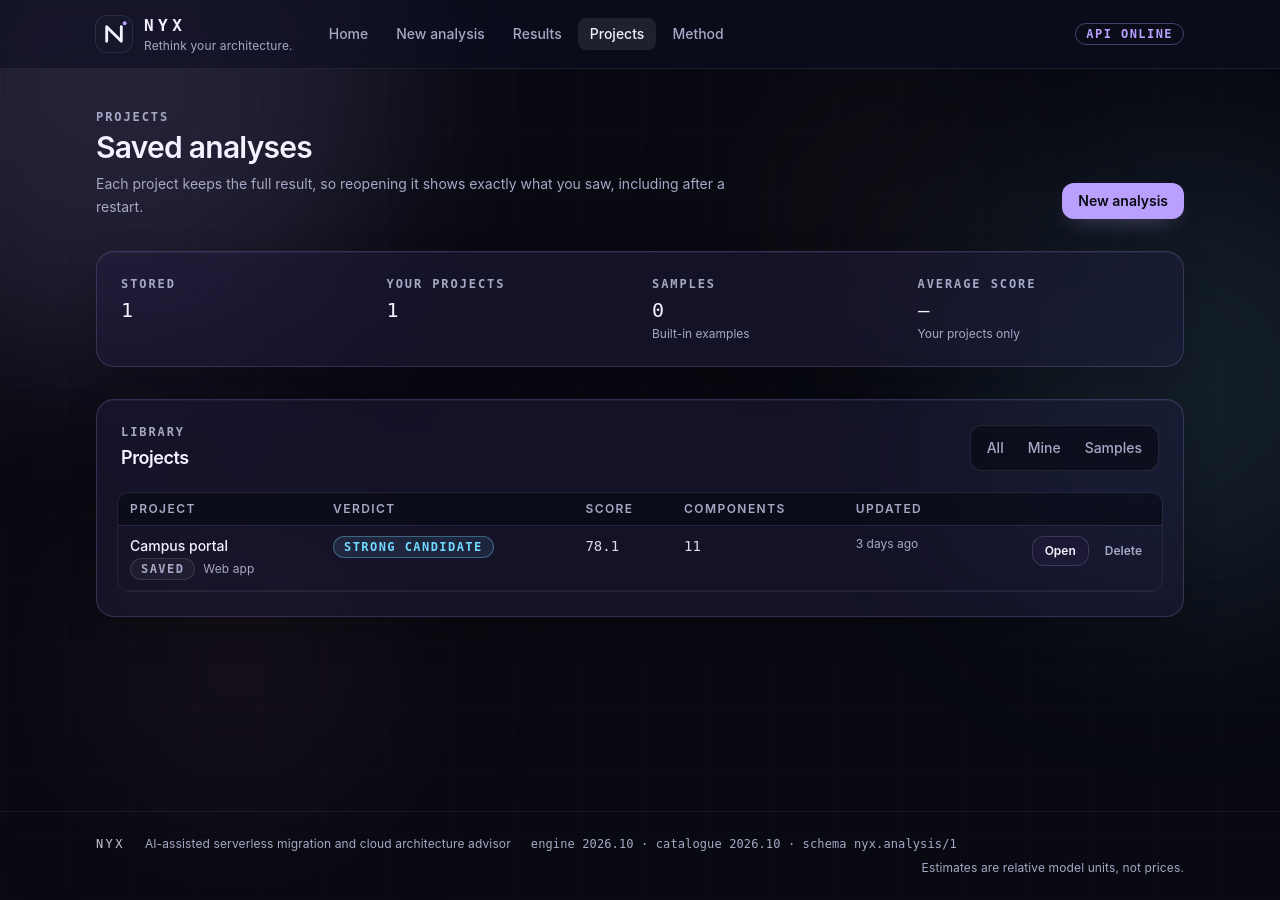
Scenario: projects › asks before deleting a project
The width and height of the screenshot is (1280, 900).
Click the button "Delete". click: click(1123, 550)
box: [1097,536,1150,566]
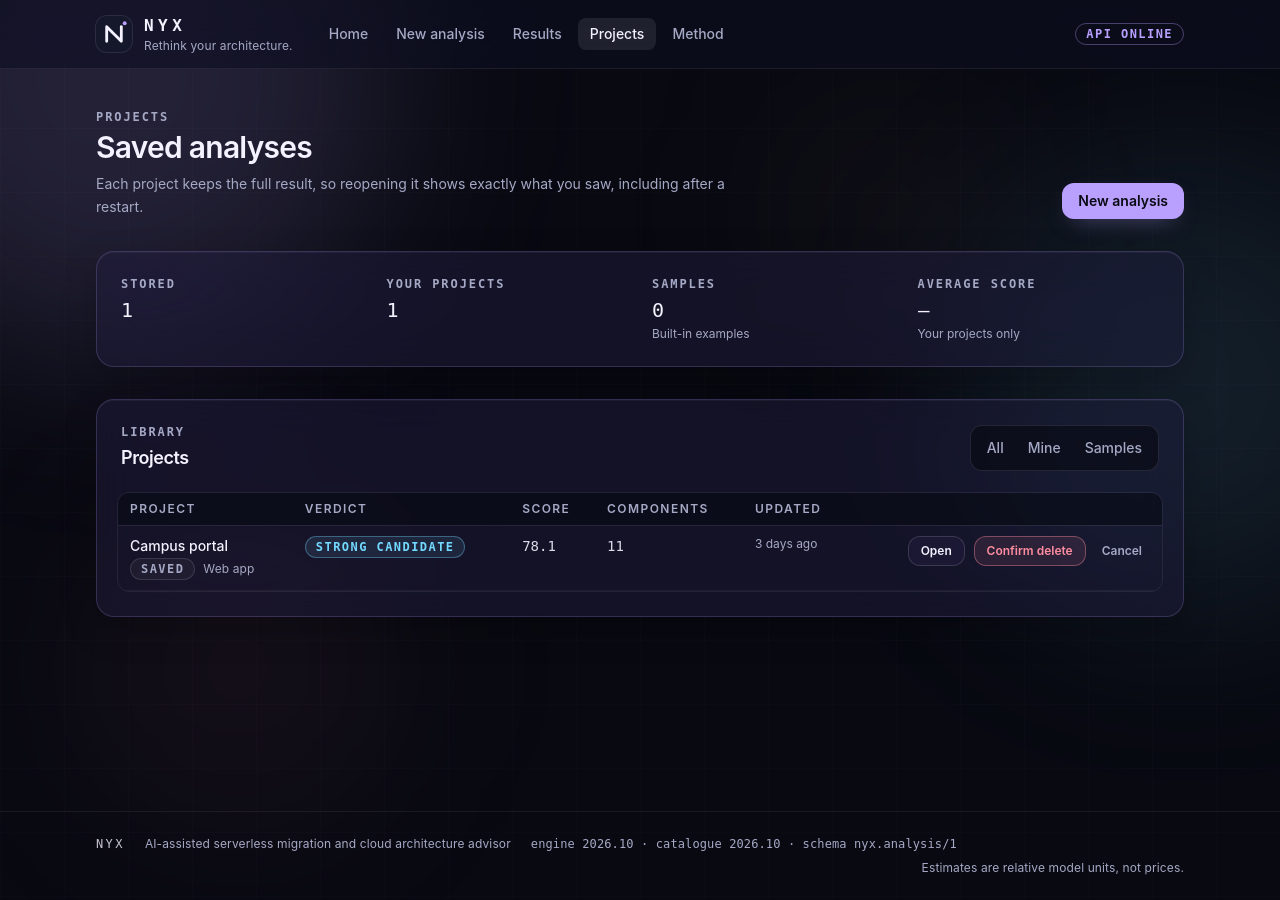
Expected: the button "Confirm delete" is shown, [974,536,1086,566]
Click the button "Cancel". click: click(1122, 550)
box: [1094,536,1150,566]
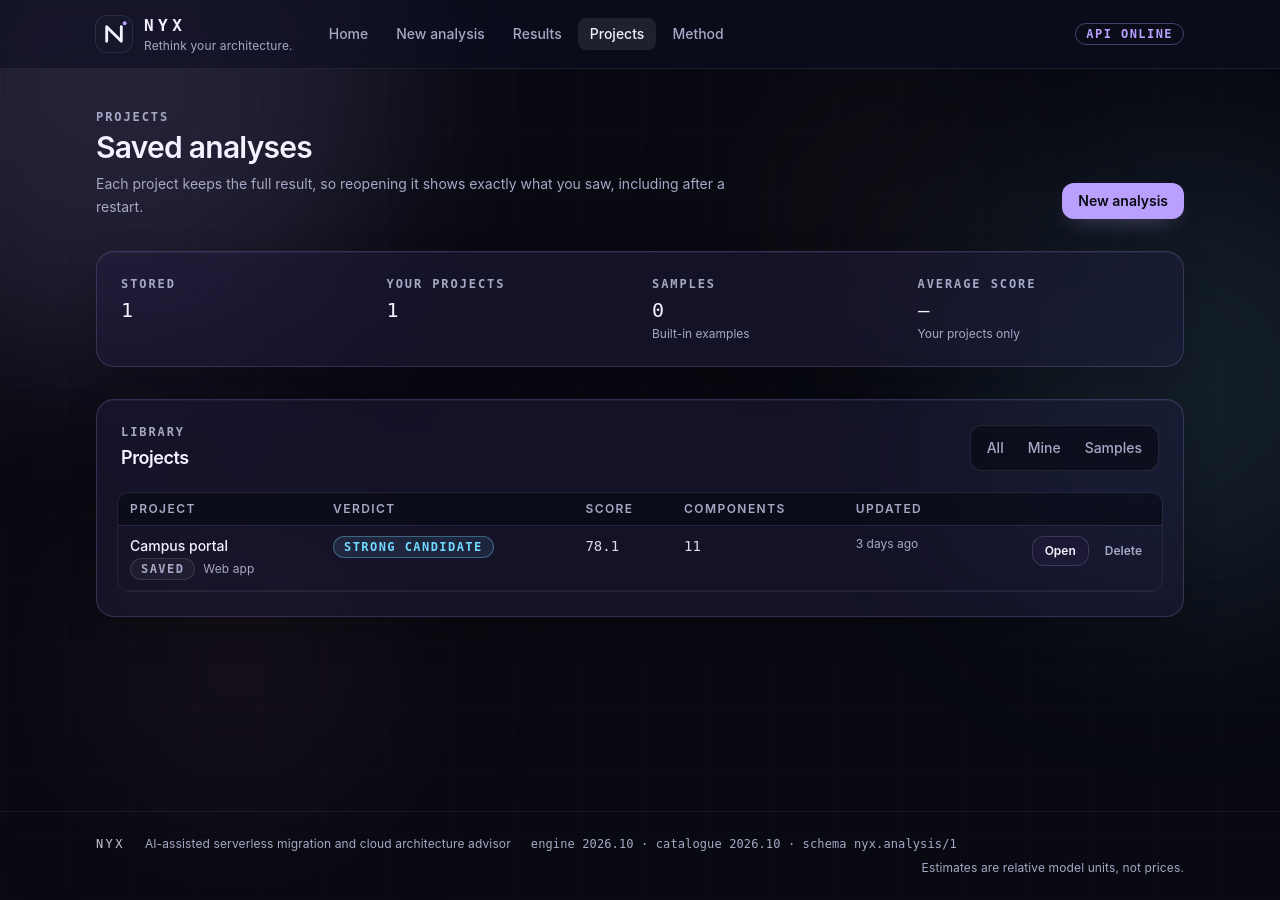
Expected: the button "Confirm delete" is gone
